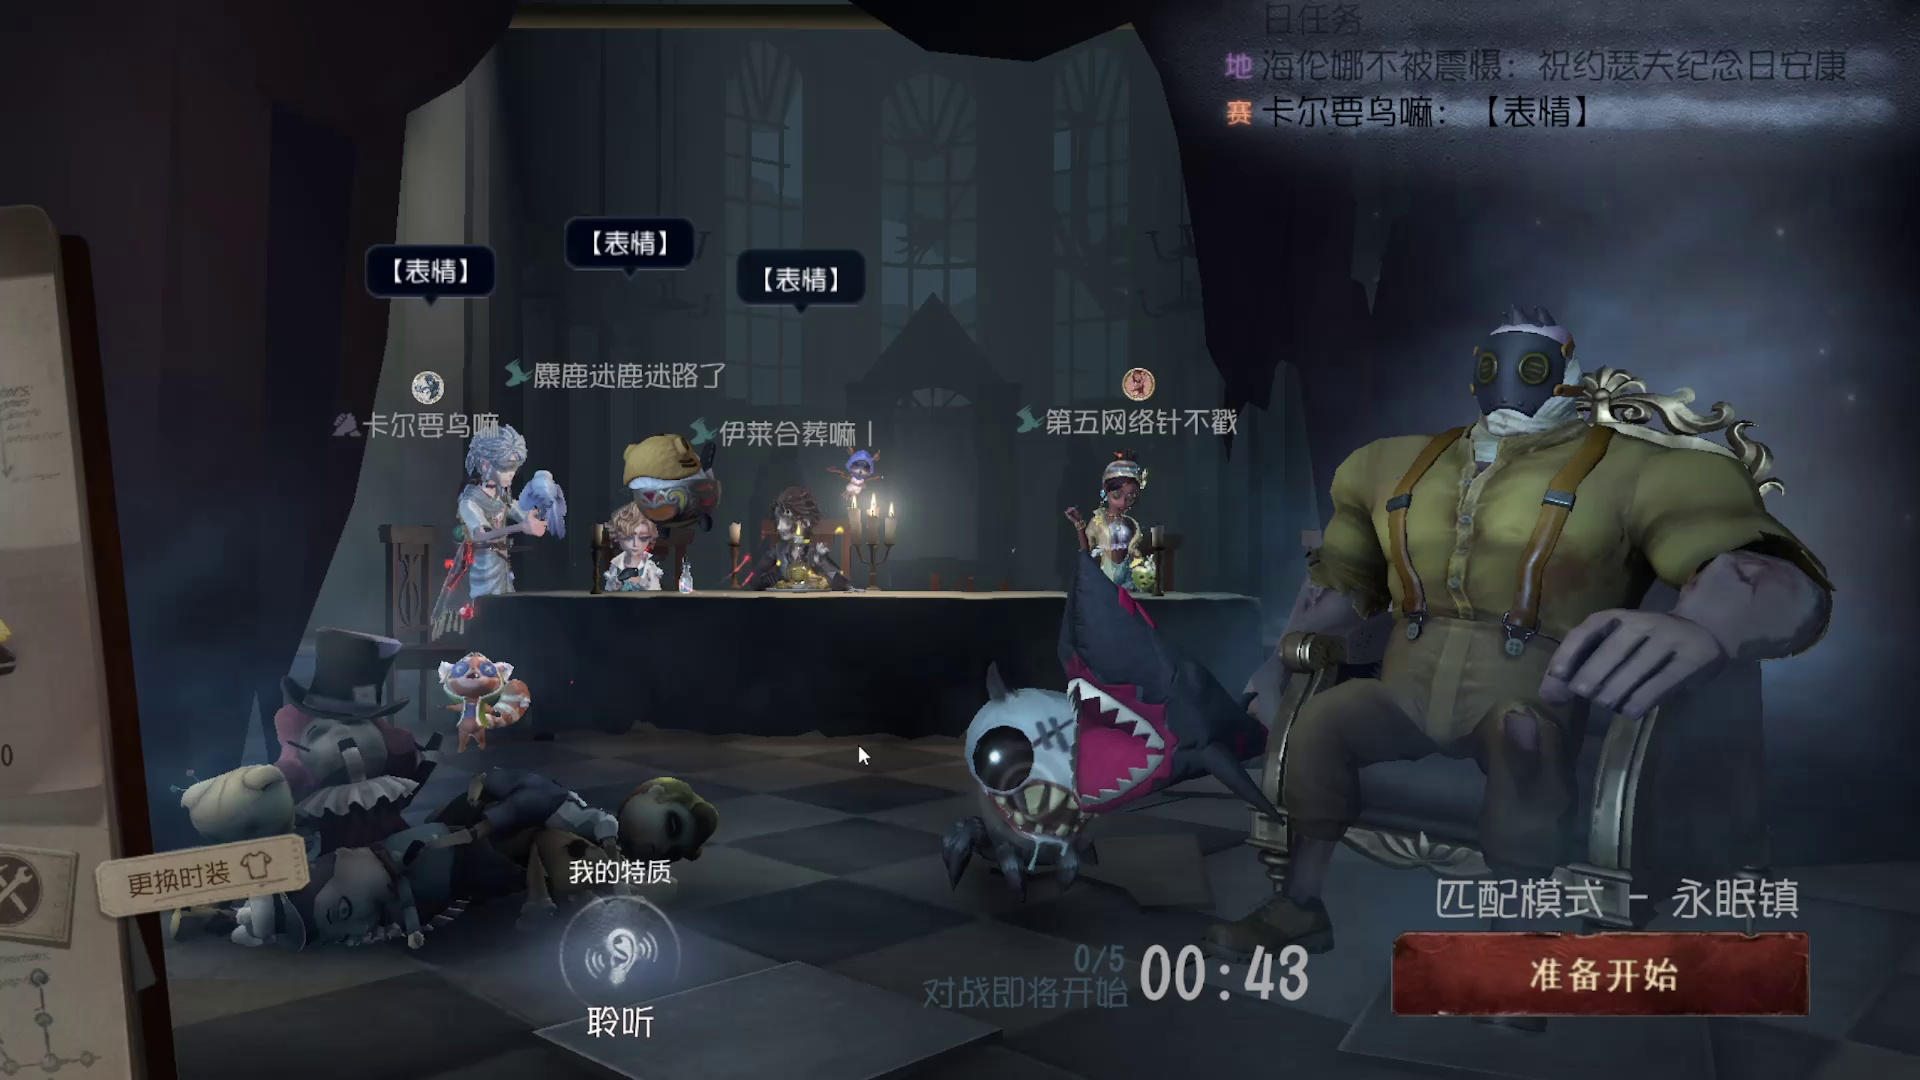准备开始: (1353, 916, 1825, 1033)
